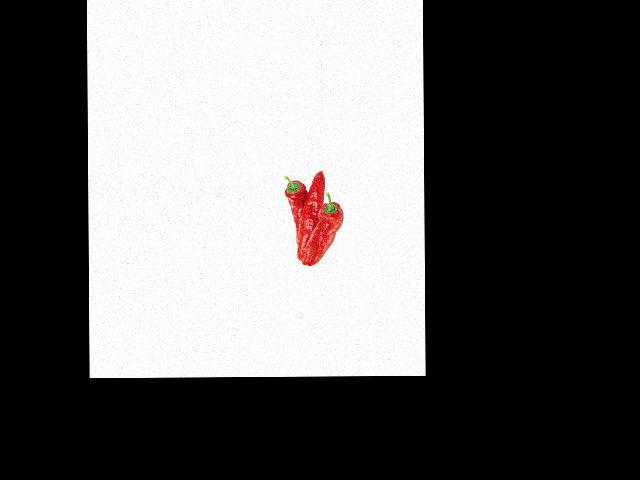bell_pepper: (310, 190, 345, 267)
